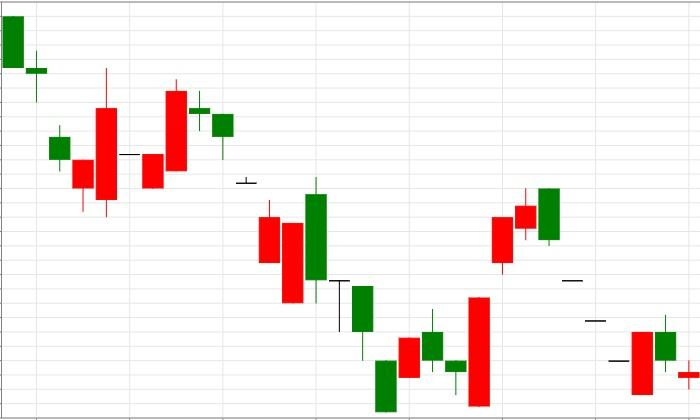bearish_engulfing_fall: (468, 188, 560, 407)
